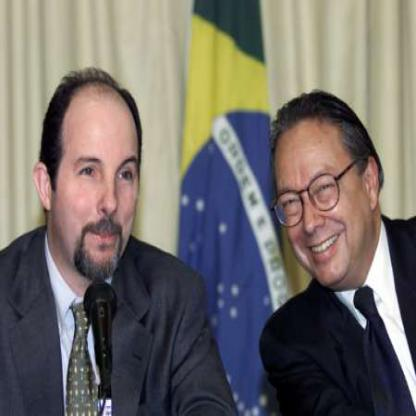face: (52, 77, 143, 280), (274, 106, 364, 290)
